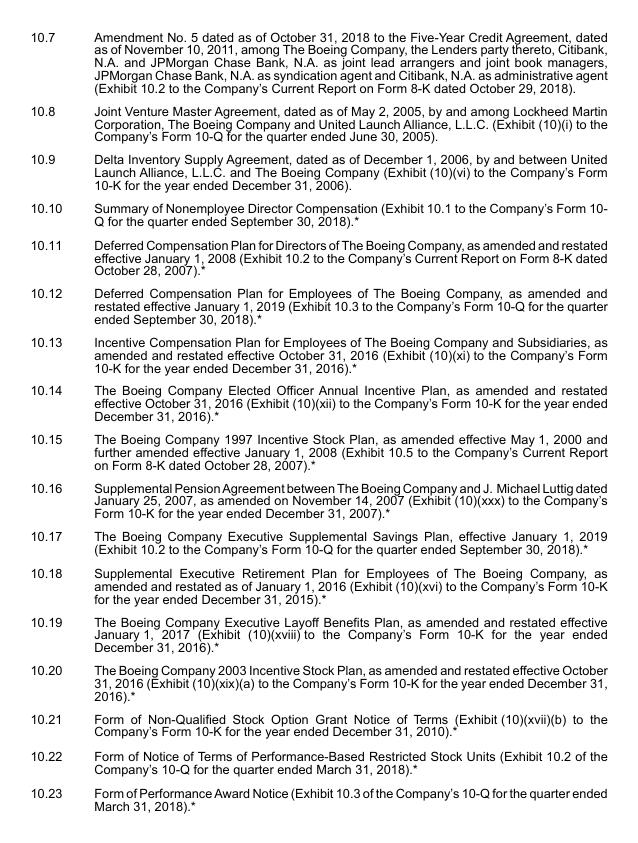table: (29, 29, 606, 812)
table column: (77, 29, 606, 812), (29, 29, 77, 812)
table row: (29, 29, 606, 98), (29, 98, 606, 147), (29, 232, 606, 281), (29, 281, 606, 330), (29, 378, 606, 427), (29, 475, 606, 524), (29, 560, 606, 609), (29, 609, 606, 658), (29, 147, 606, 195), (29, 330, 606, 378), (29, 427, 606, 475), (29, 658, 606, 706), (29, 195, 606, 232), (29, 706, 606, 743), (29, 743, 606, 780), (29, 524, 606, 560), (29, 780, 606, 812)
